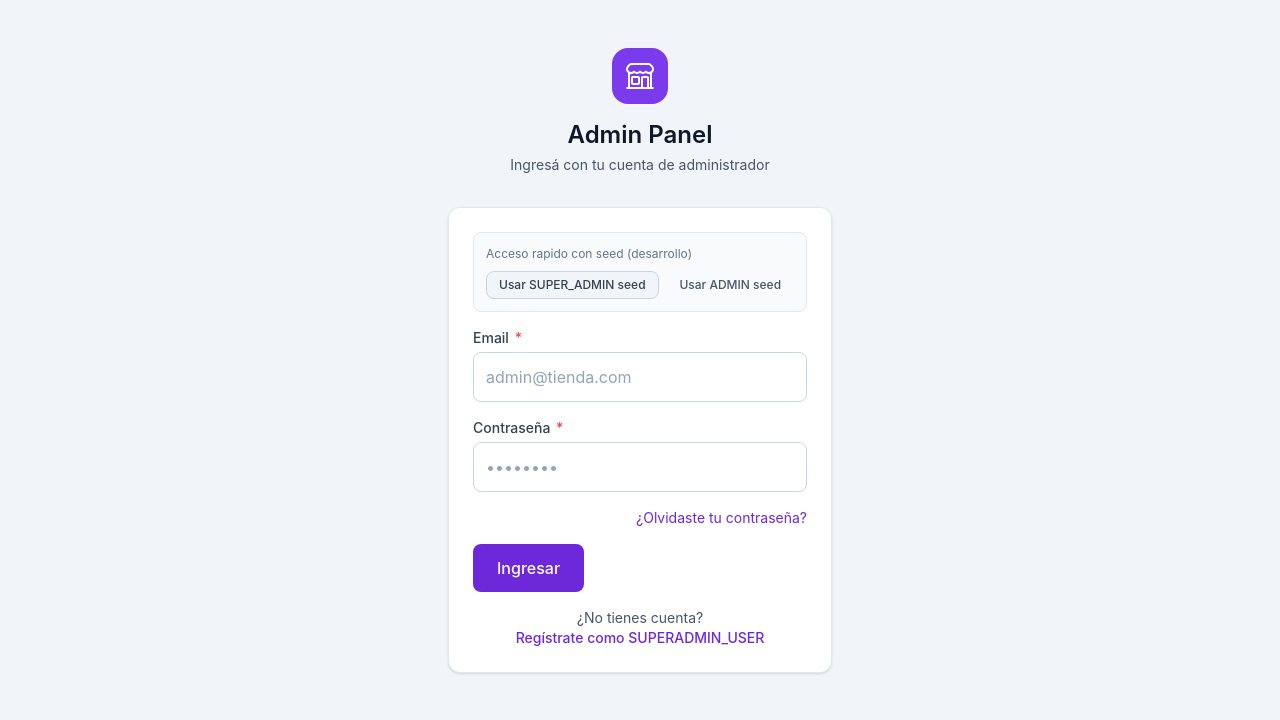
Test: Error Handling & Messages › Create/Update entity with validation errors › should display validation error from API as human-readable message
The width and height of the screenshot is (1280, 720).
Type "superadmin@local.dev" into the field labelled "Email *" at (640, 377), box [473, 352, 807, 402]
Type "Admin2026!" into the password field labelled "Contraseña *" at (640, 467), box [473, 442, 807, 492]
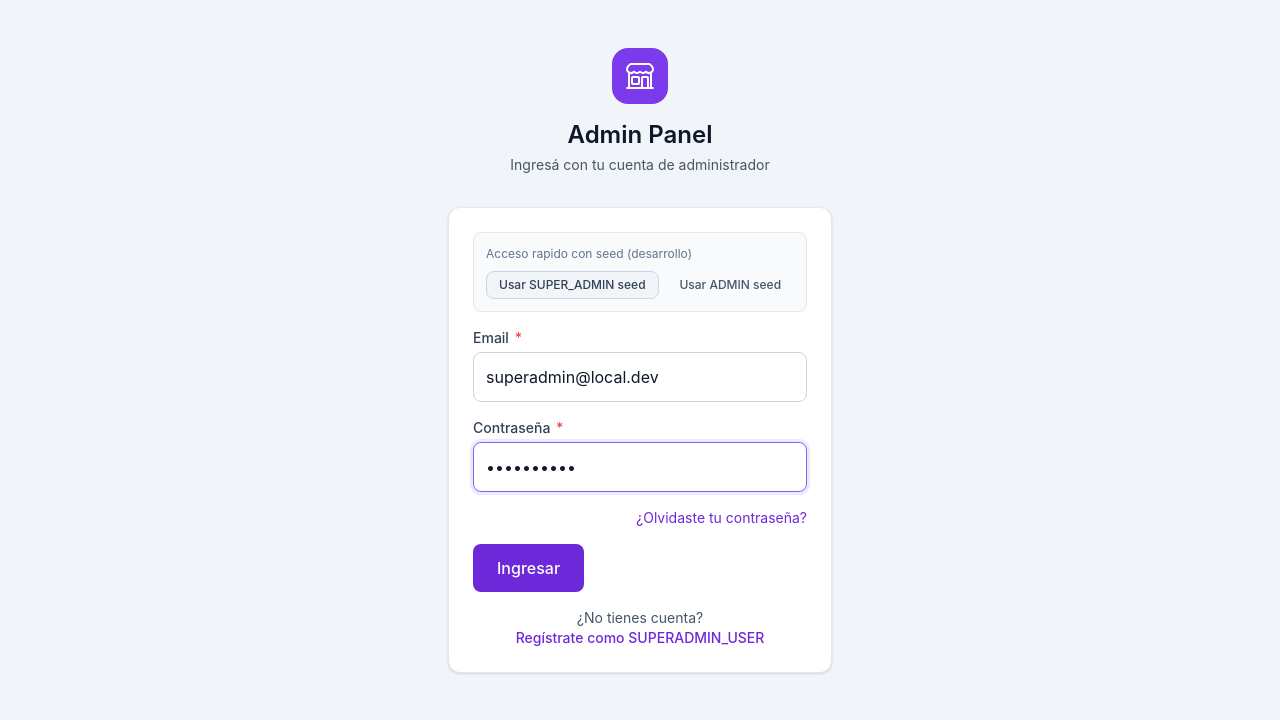
Click the submit button at (529, 568), box [473, 544, 584, 592]
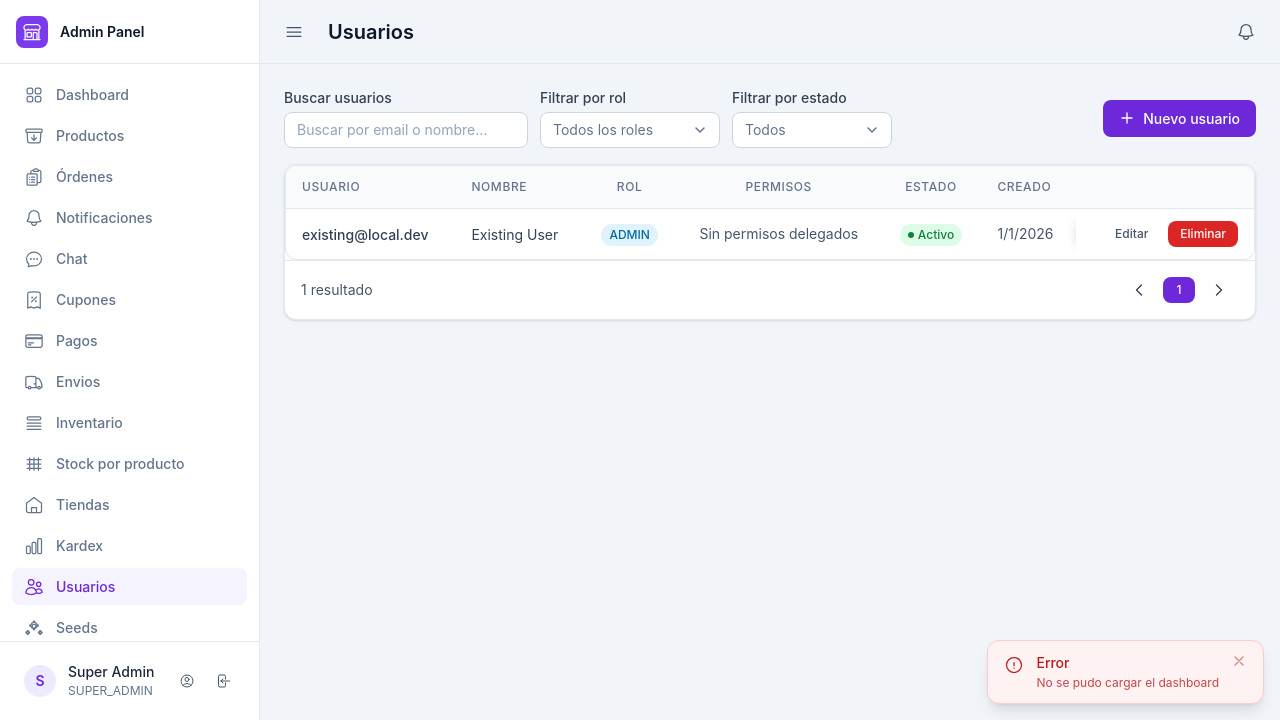
Now the button "Nuevo usuario" is shown
Click the button "Nuevo usuario" at (1180, 119), box [1103, 100, 1256, 137]
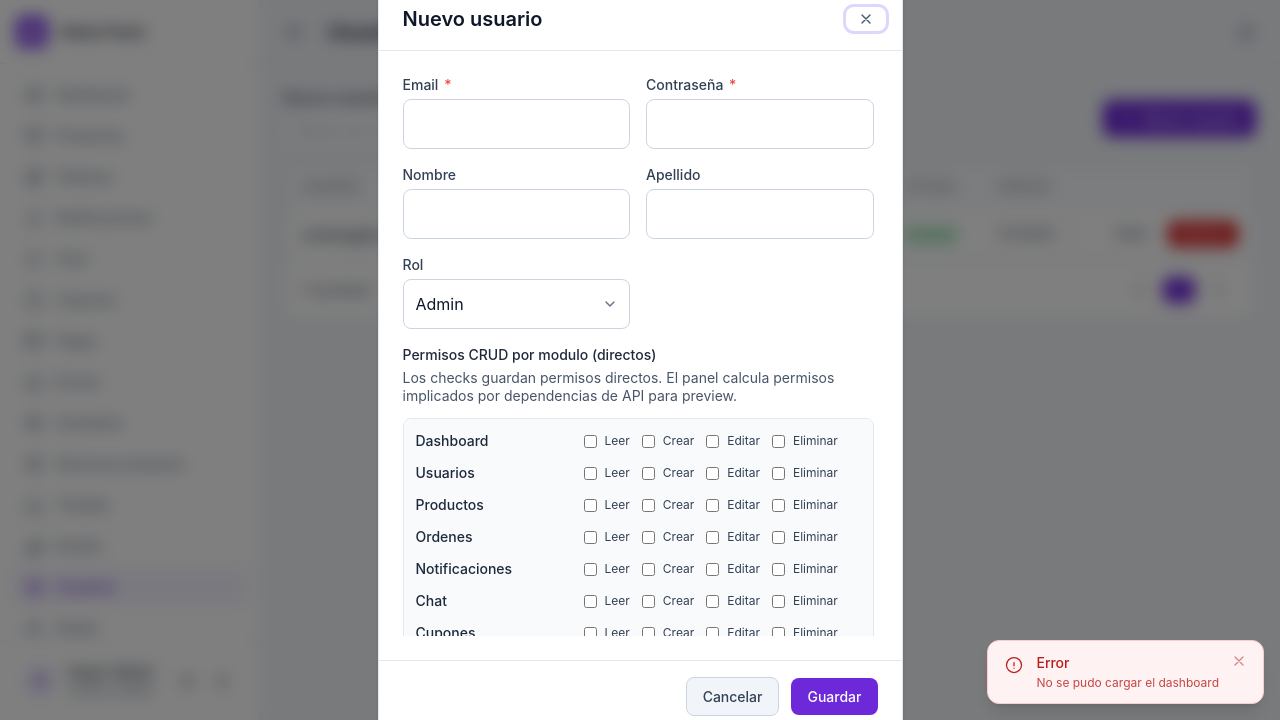
Type "existing@local.dev" into the field labelled "Email *" at (517, 124), box [403, 99, 631, 149]
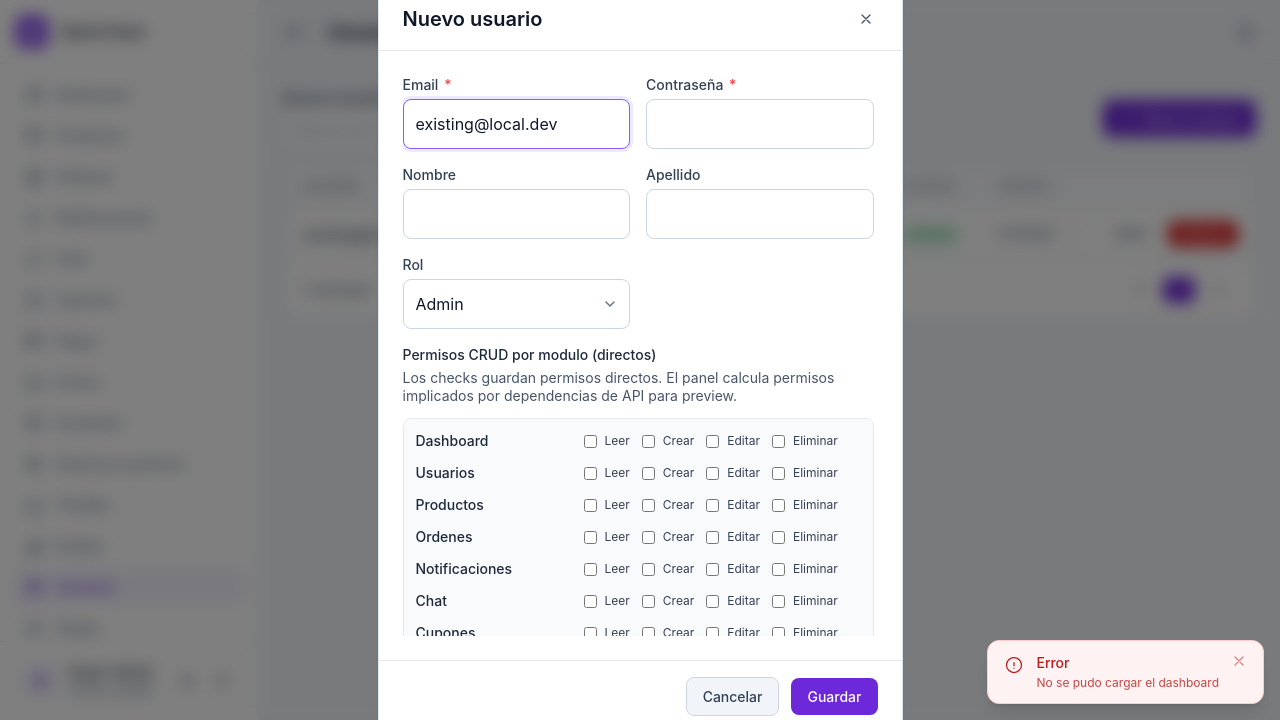
Type "Password2026!" into the password field labelled "Contraseña *" at (760, 124), box [646, 99, 874, 149]
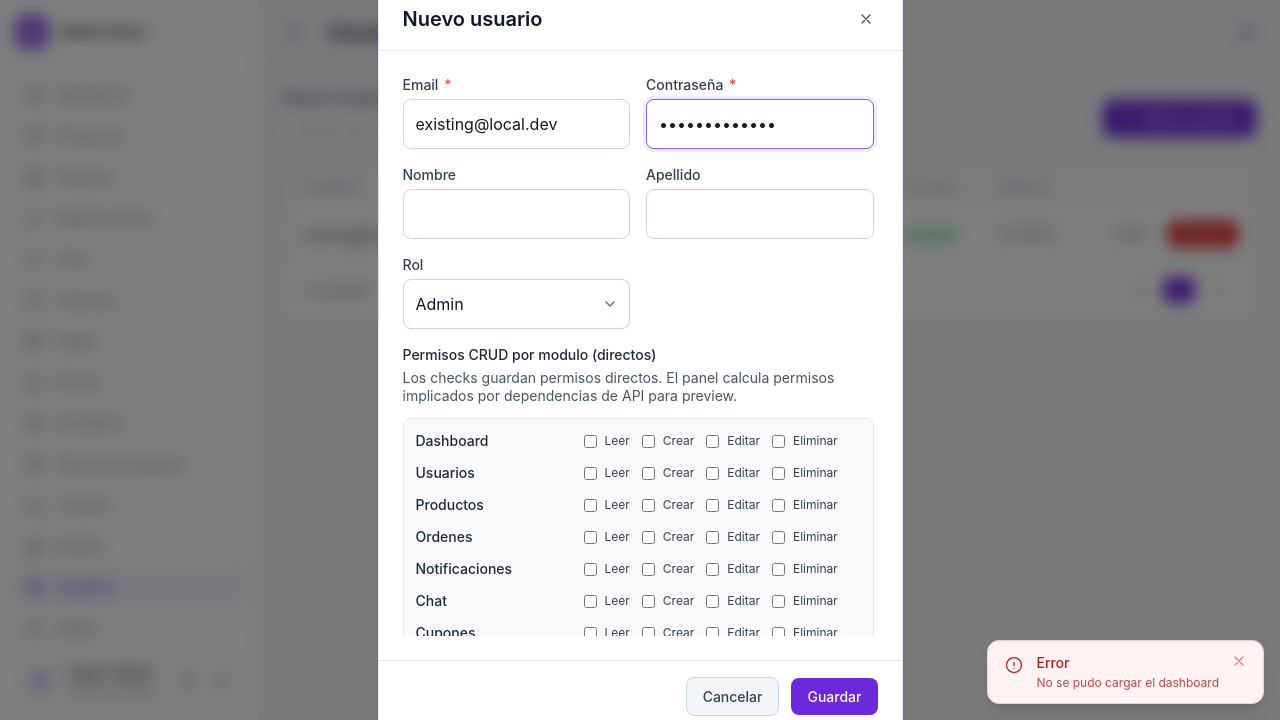
Click the button "Guardar" at (835, 697), box [792, 678, 878, 715]
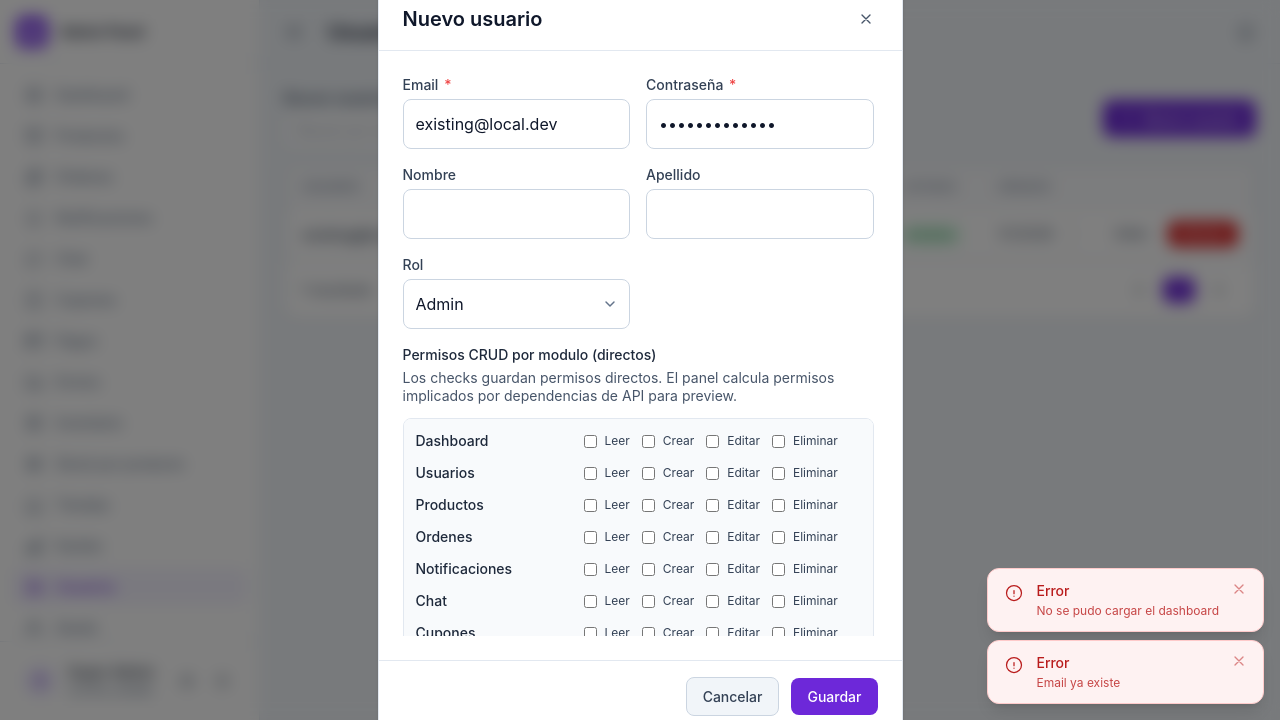
Now the message "Error No se pudo cargar el dashboard" is shown, box [987, 568, 1264, 632]
Now the text "Email ya existe" is shown, box [1036, 675, 1120, 690]
